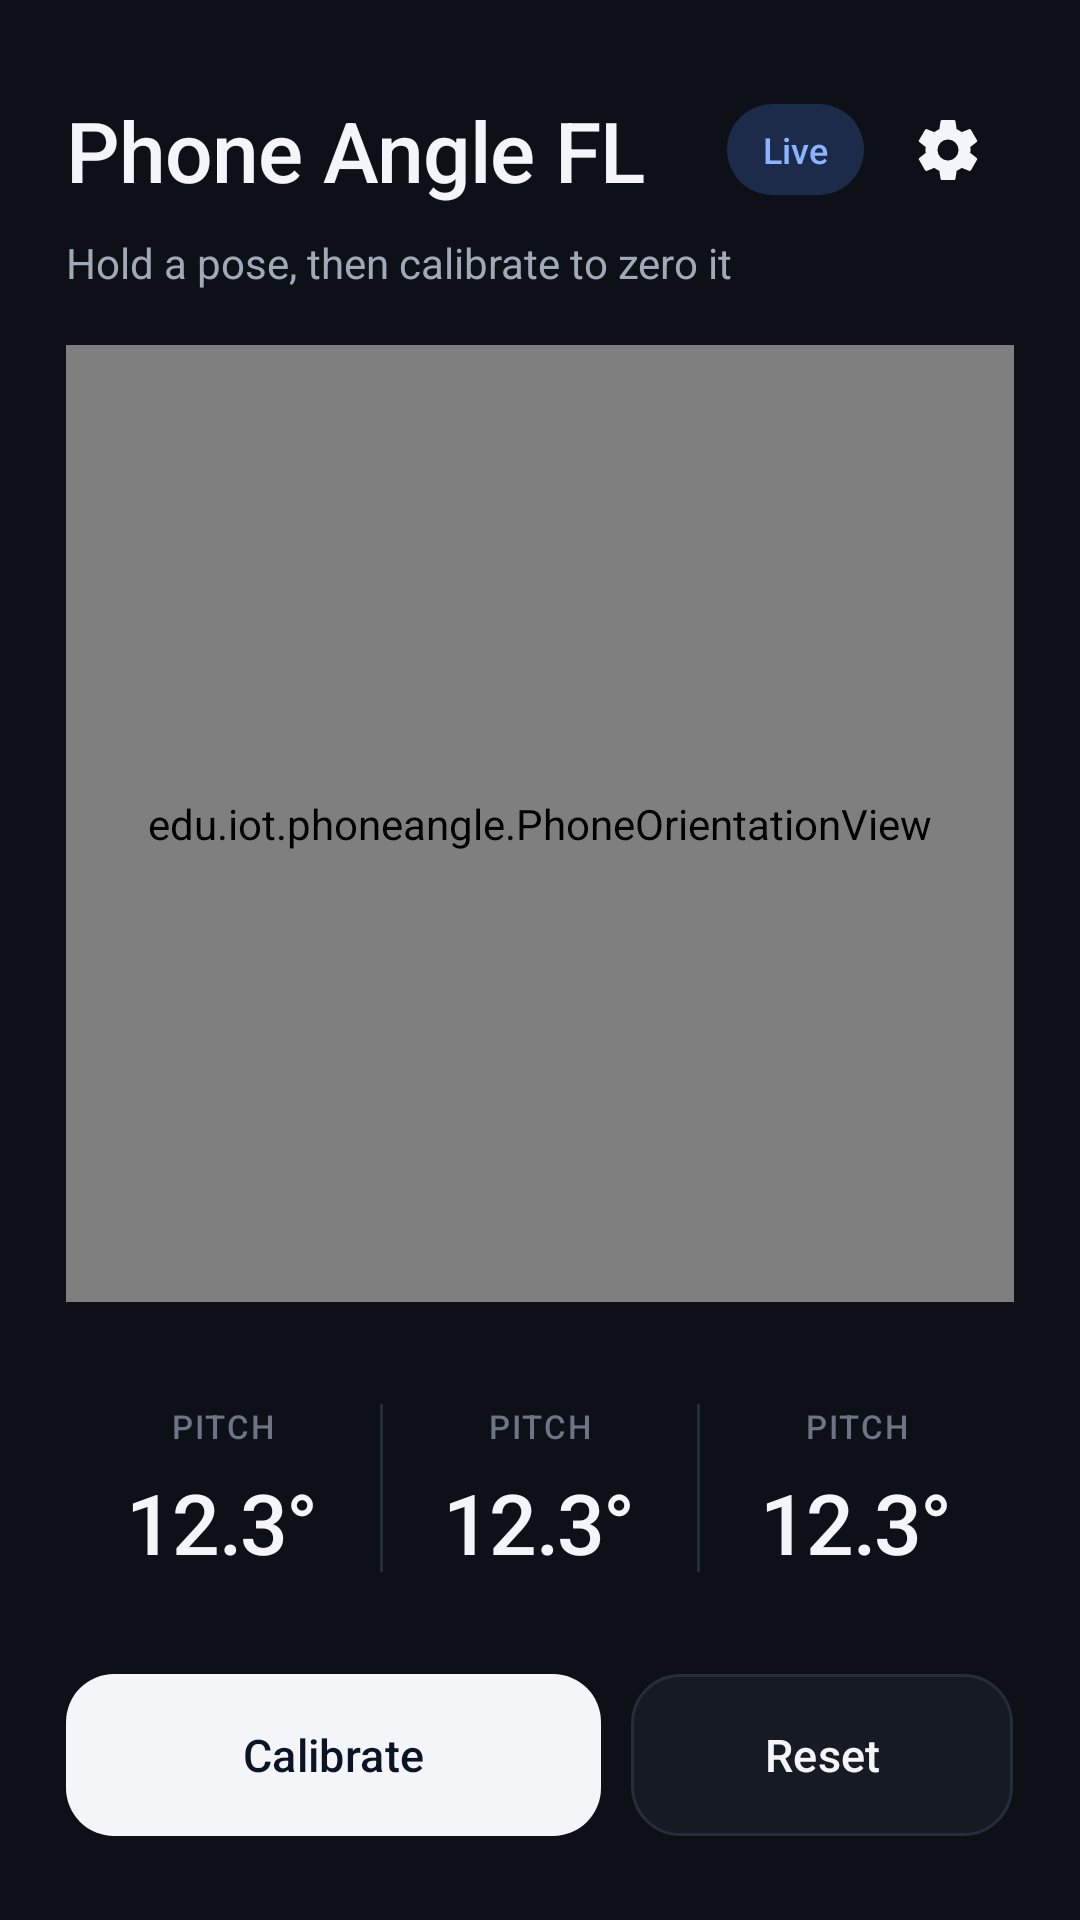

Locate icon controls on the screen. Image size 1080 × 1920, boxes as (x1, y1, x2, y2).
Settings: (918, 120, 977, 180)
